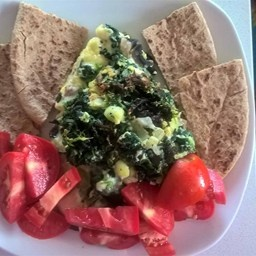background: (0, 0, 100, 102)
